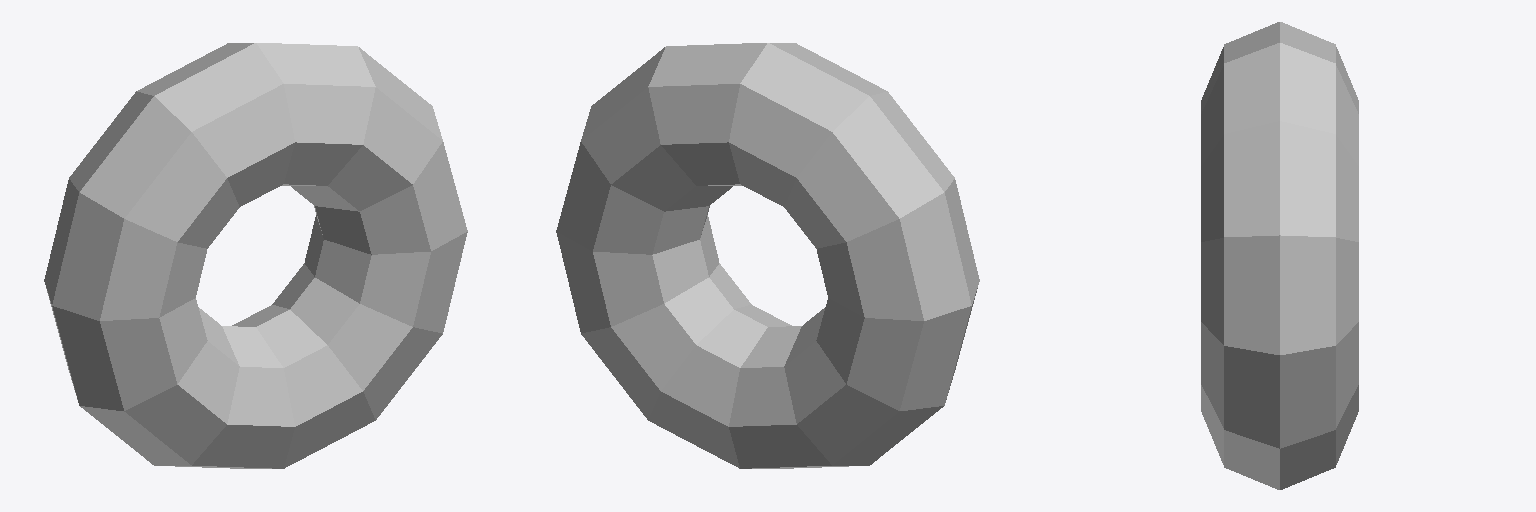
File: Donut.obj
3 views of the same model, side by side, from view 1: azimuth 30°, elevation 25°; view 2: azimuth 150°, elevation 25°; view 3: azimuth 270°, elevation 25° (orthographic).
Visible parts, largest first — view 1: pTorus1; view 2: pTorus1; view 3: pTorus1.
Part boxes in pixels (left/top/right/bottom): pTorus1: left=44, top=43, right=467, bottom=468; pTorus1: left=556, top=43, right=979, bottom=468; pTorus1: left=1201, top=22, right=1358, bottom=489.
Bounding box in the file's own units: 48.8 × 48.8 × 16.27.